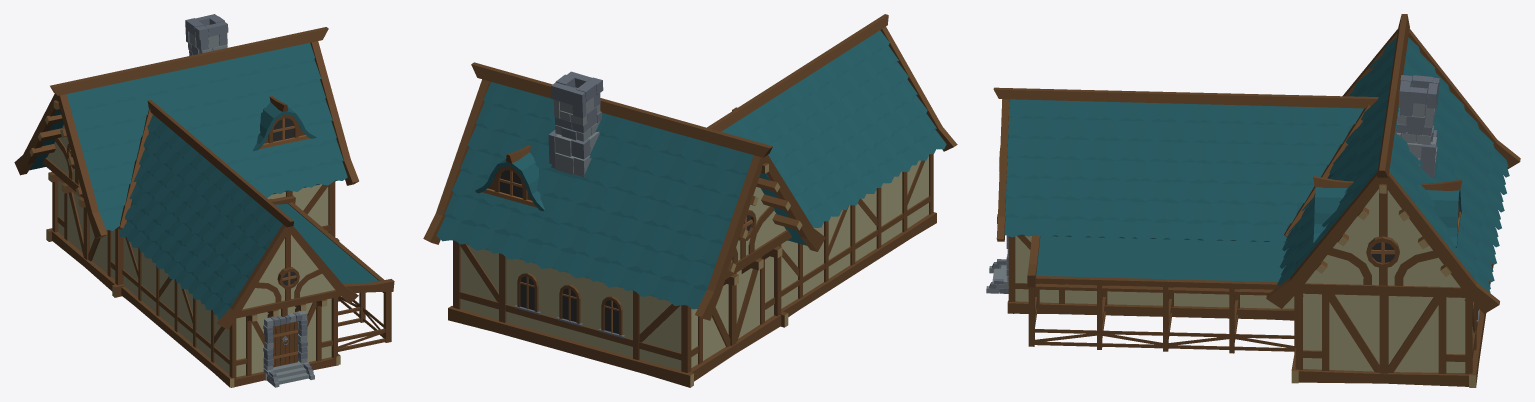
Rendered from stable_lev1.glb.
3 renders of one model, left to right at view 1: azimuth 30°, elevation 25°; view 2: azimuth 150°, elevation 25°; view 3: azimuth 270°, elevation 25°, orthographic. The views are drawn at different scales.
Parts seen in each view (by area): view 1: stable_lev1; view 2: stable_lev1; view 3: stable_lev1.
Part boxes in pixels (x1=…): stable_lev1: x1=14, y1=14, x2=394, y2=387; stable_lev1: x1=423, y1=14, x2=957, y2=387; stable_lev1: x1=986, y1=14, x2=1520, y2=387.
Size of the model in its own units: 9.05 by 6.78 by 12.98.
